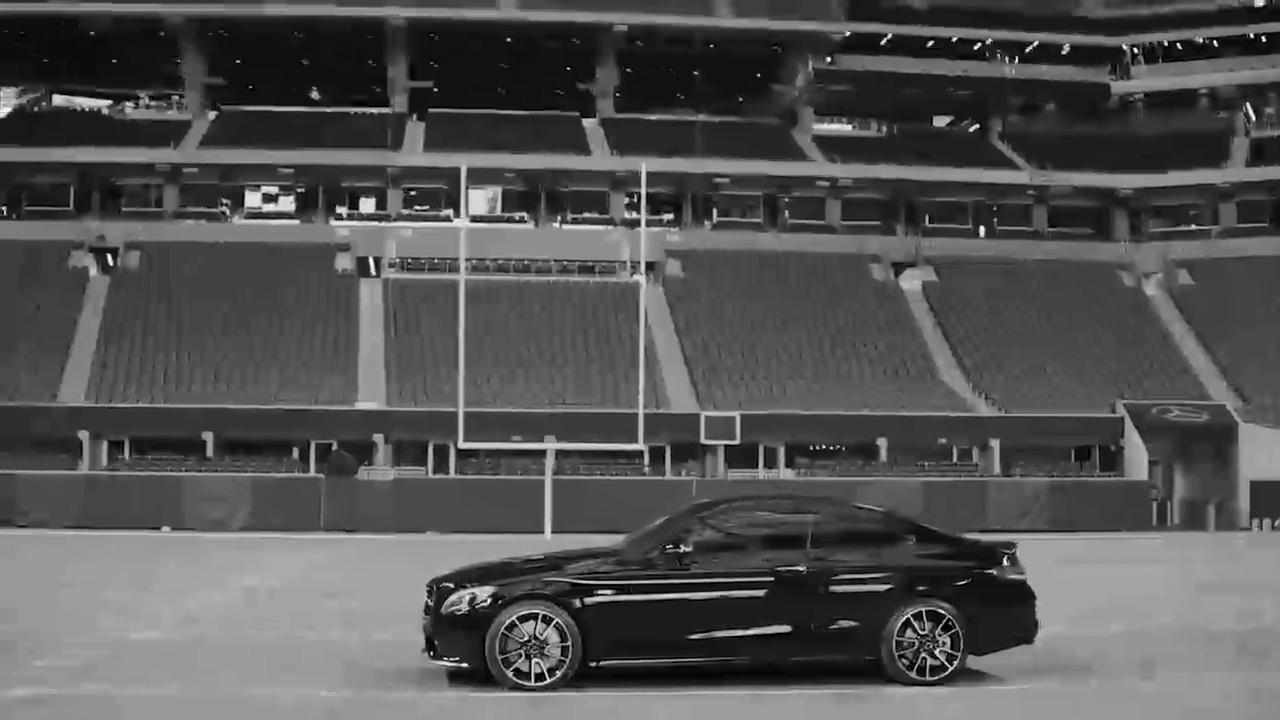car: (419, 483, 1044, 687)
